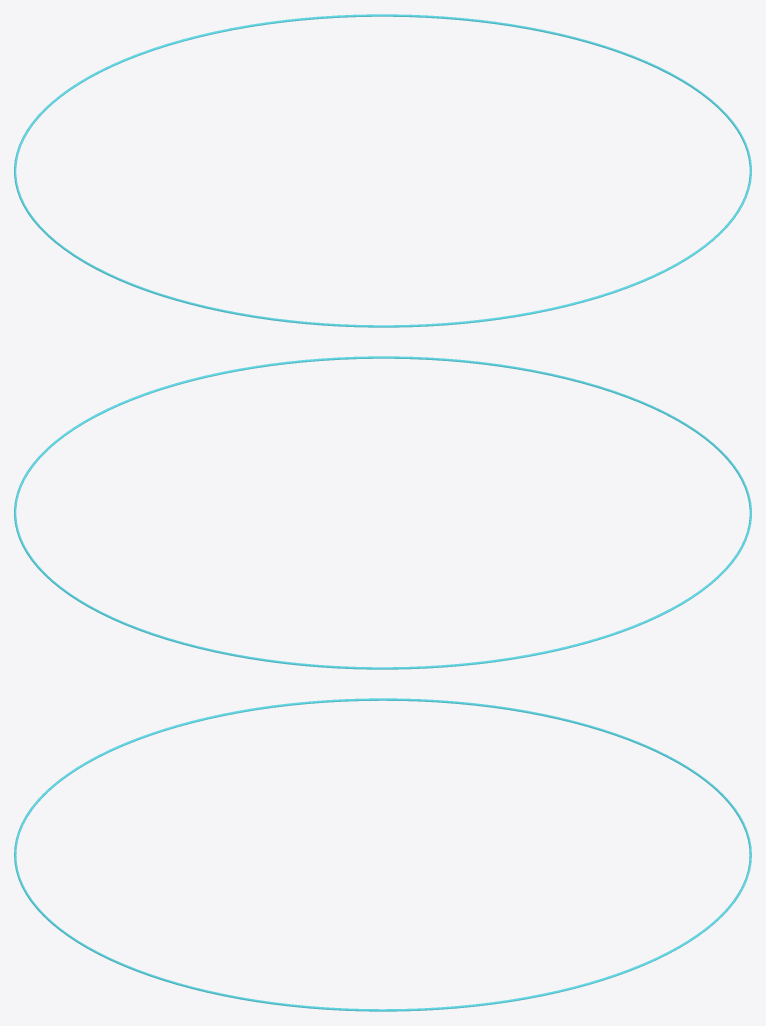
The model's file is pattern_h.glb.
3 views of the same model, one above another, from view 1: azimuth 30°, elevation 25°; view 2: azimuth 150°, elevation 25°; view 3: azimuth 270°, elevation 25° (orthographic).
Parts seen in each view (by area): view 1: pattern_h; view 2: pattern_h; view 3: pattern_h.
Boxes of the visible parts, left/top/right/bottom form: pattern_h: left=14, top=14, right=751, bottom=327; pattern_h: left=14, top=356, right=751, bottom=669; pattern_h: left=14, top=698, right=751, bottom=1011.
Bounding box in the file's own units: 1.2 × 0.004 × 1.2.
